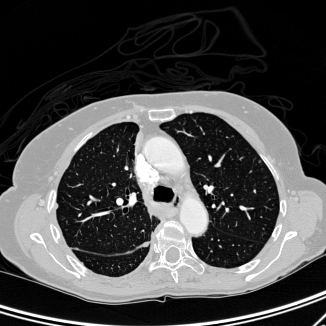nodule: (142, 241, 148, 247)
